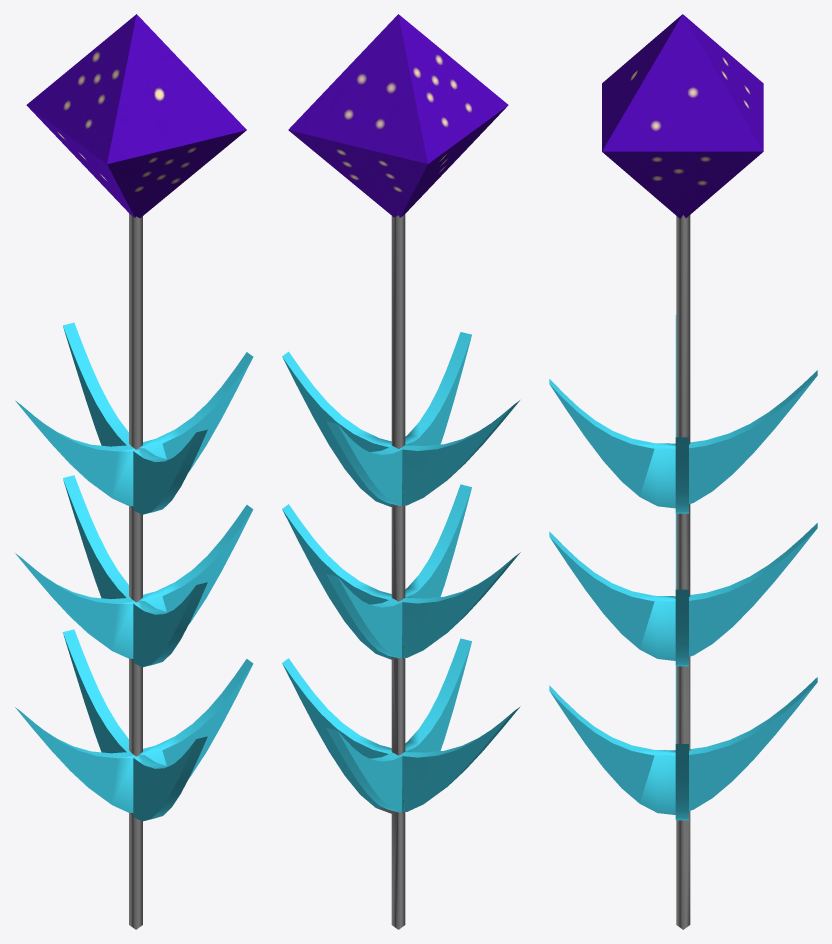
File: Dice Spear dice detached.FBX
The picture shows the model from 3 angles, left to right: view 1: azimuth 30°, elevation 25°; view 2: azimuth 150°, elevation 25°; view 3: azimuth 270°, elevation 25°; orthographic projection.
Visible parts, largest first — view 1: Cylinder001, Hedra001; view 2: Cylinder001, Hedra001; view 3: Cylinder001, Hedra001.
Boxes of the visible parts, <box> form: Cylinder001: <box>15,213,253,929</box>; Hedra001: <box>26,14,246,217</box>; Cylinder001: <box>282,214,520,929</box>; Hedra001: <box>288,14,508,217</box>; Cylinder001: <box>549,215,817,929</box>; Hedra001: <box>602,14,763,218</box>.
Size of the model in its own units: 9.98 by 37.46 by 9.98.
